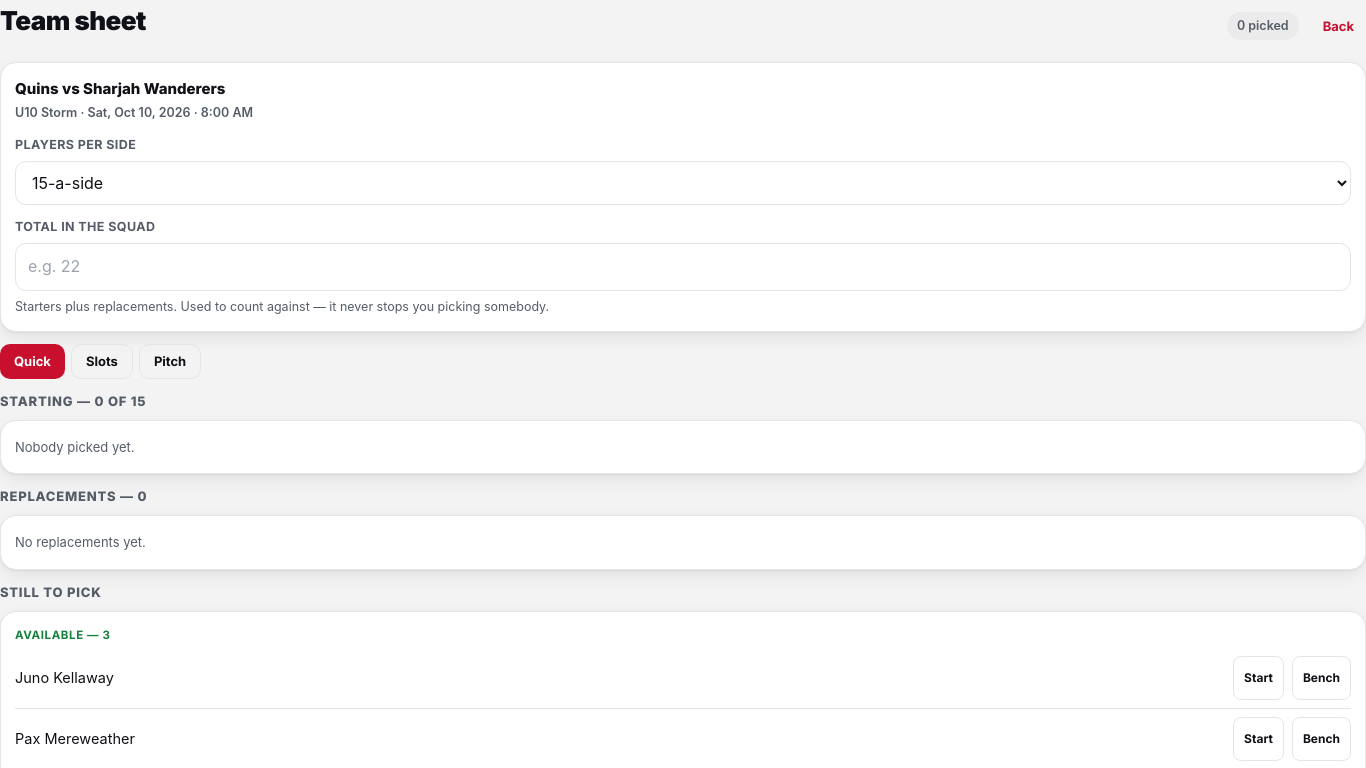
Test case: the slots view › shows one numbered shirt per player-per-side, with position names
Expected: the button "Quick" is shown, [0,344,65,379]
Select "7-a-side" in the dropdown labelled "Players per side" at (683, 183), box [15,161,1351,205]
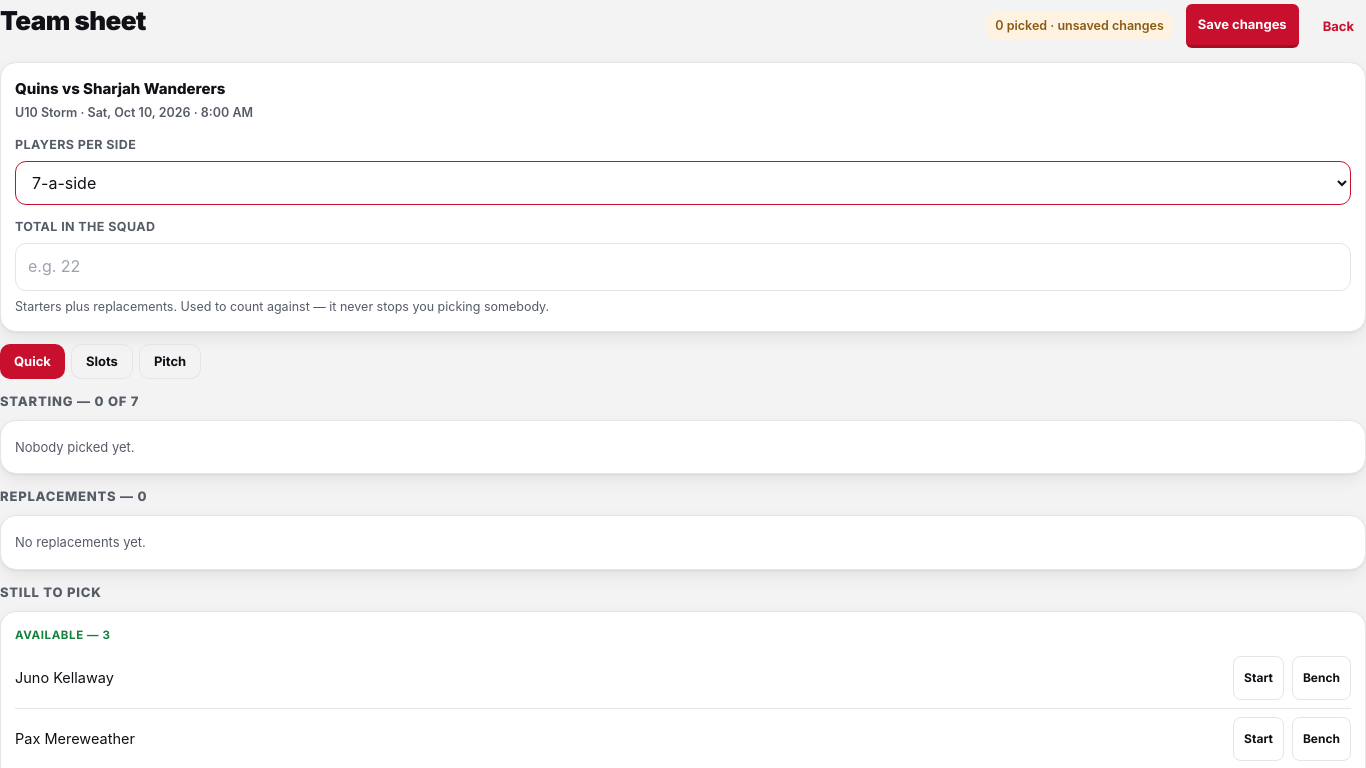
Click the button "Slots".
click(102, 361)  # box [71,344,133,379]
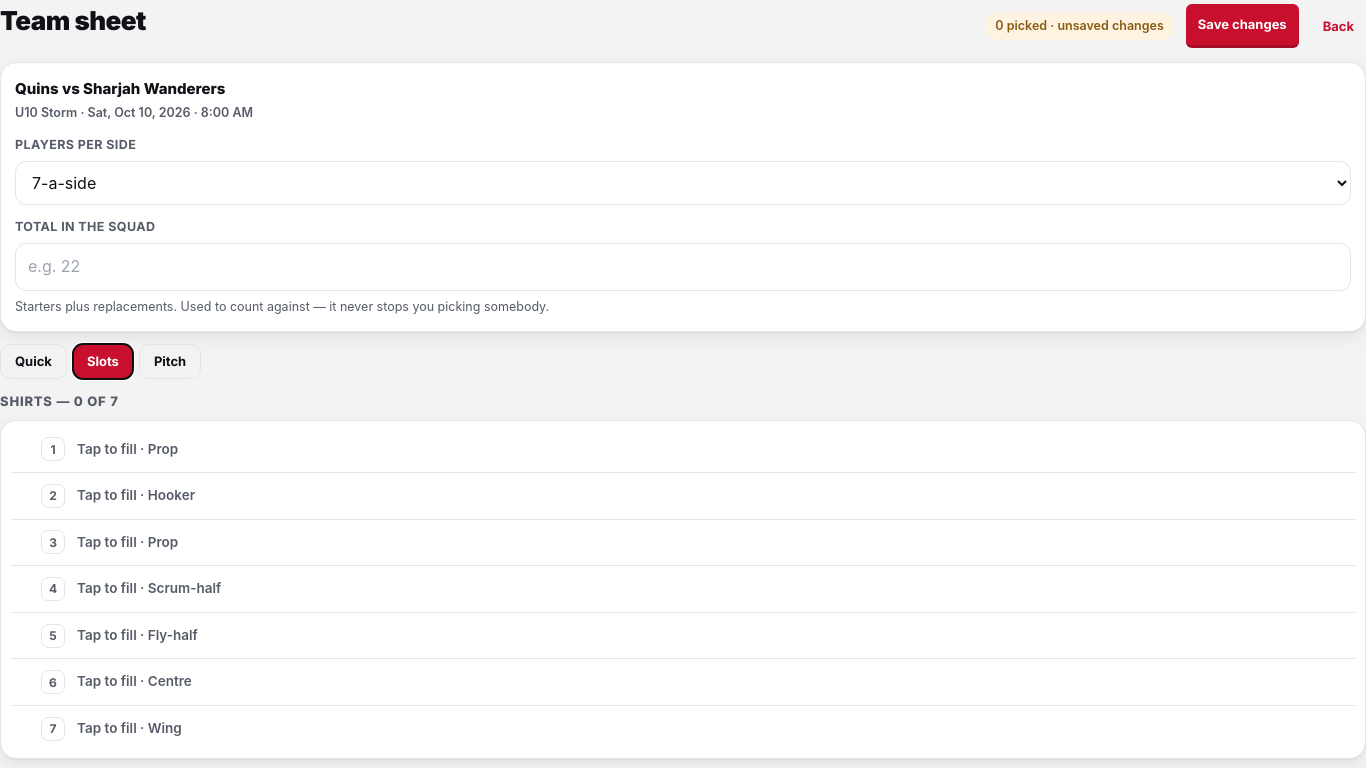
Expected: the heading "Shirts — 0 of 7" is shown, [0,391,119,412]
Expected: the number of buttons "Tap to fill · Prop" is 7
Expected: the button "Tap to fill · Fly-half" is shown, [73,621,1355,650]
